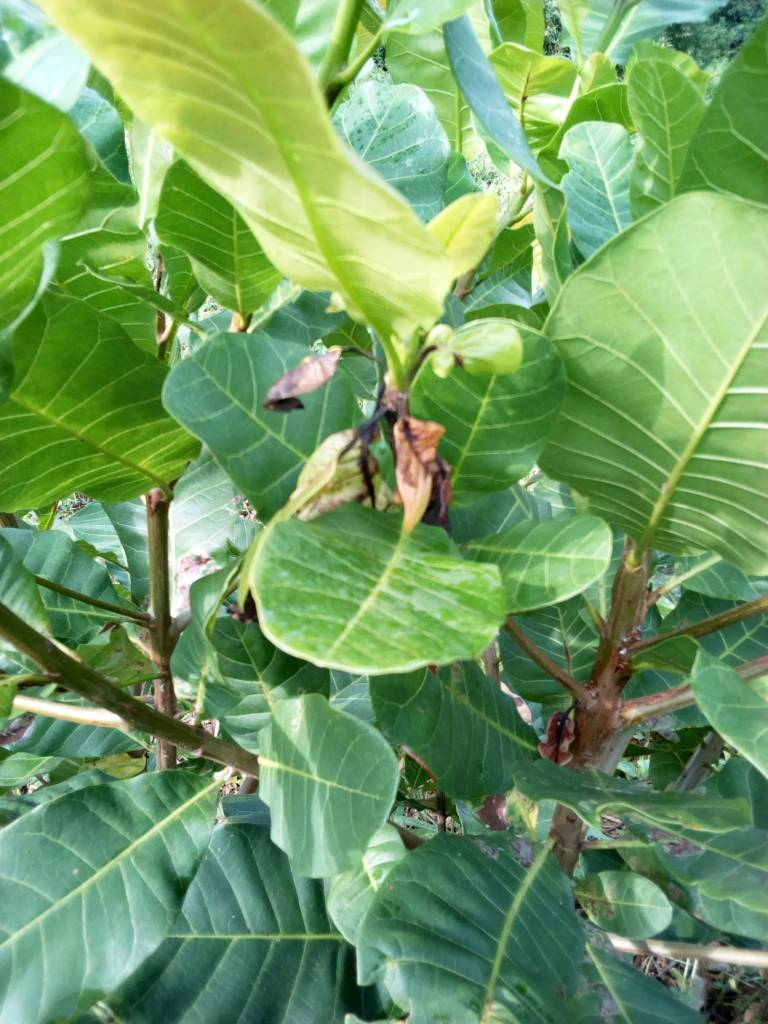Dessèchement des bourgeons: (348, 395, 421, 471)
